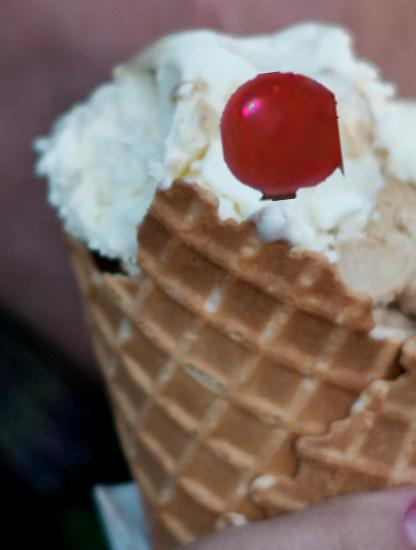Redcurrant: (217, 72, 345, 200)
